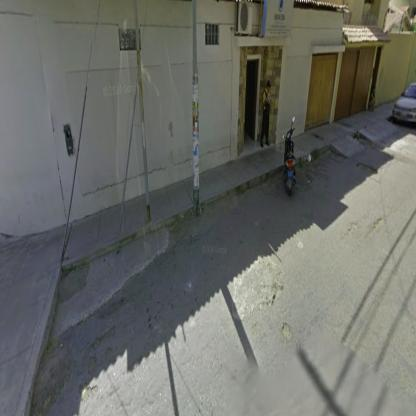Moto: (283, 117, 297, 196)
Obstaculo: (233, 257, 285, 321), (31, 340, 74, 416), (58, 263, 91, 304), (80, 358, 99, 399), (92, 326, 117, 353), (366, 220, 387, 242), (343, 222, 363, 239), (283, 323, 293, 347), (358, 164, 378, 176)
Peaton: (261, 82, 273, 149)
